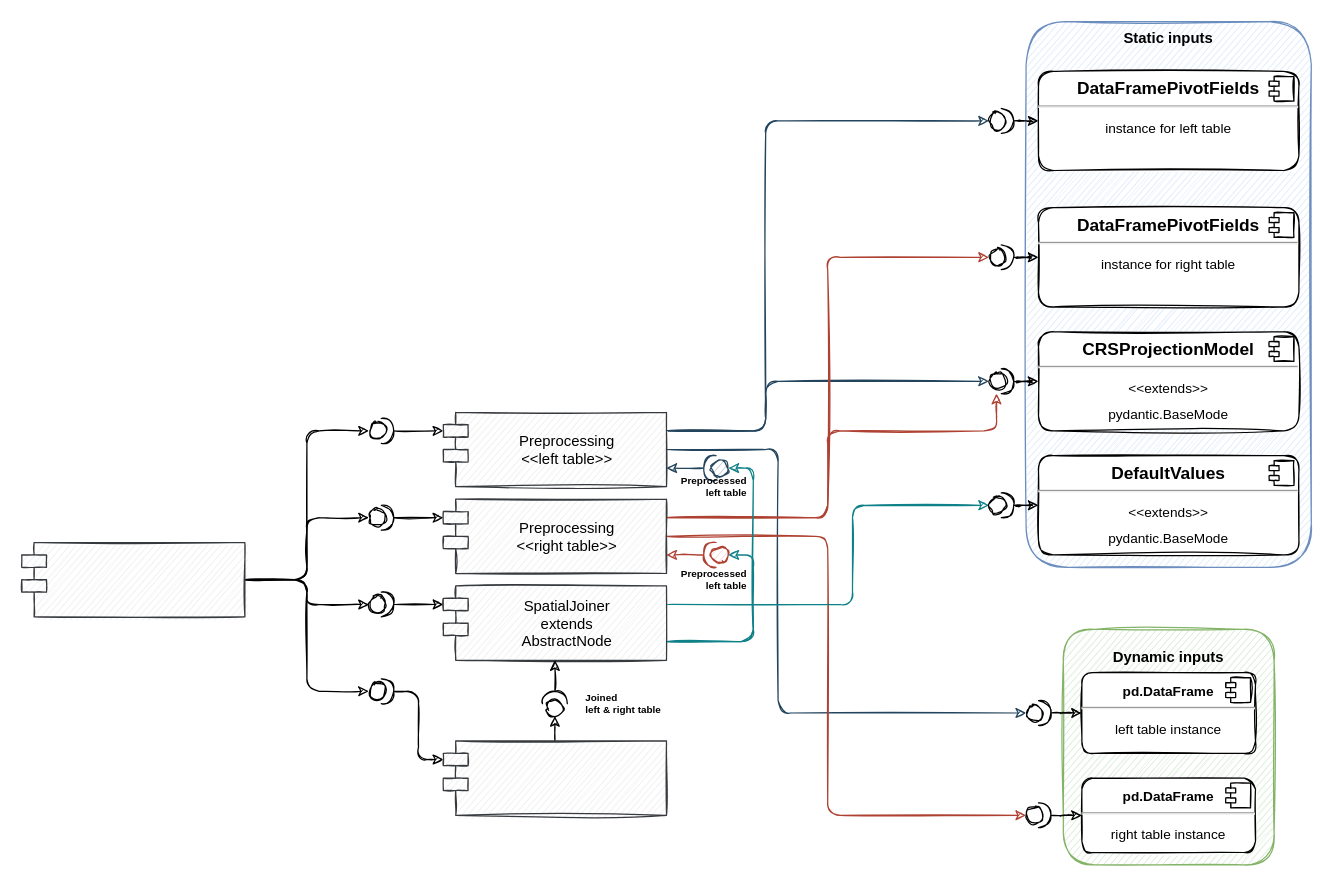
Some shapes in this 1333 by 887 pixel diagram are drawn without their labels. The box of each missing label's shape, as (x1, y1, x2, y2) in pixels:
SpatialJoinValidator extends AbstractNode: (442, 740, 666, 815)
SpatialLinkageSession extends AbstractPredictor: (20, 541, 245, 617)
